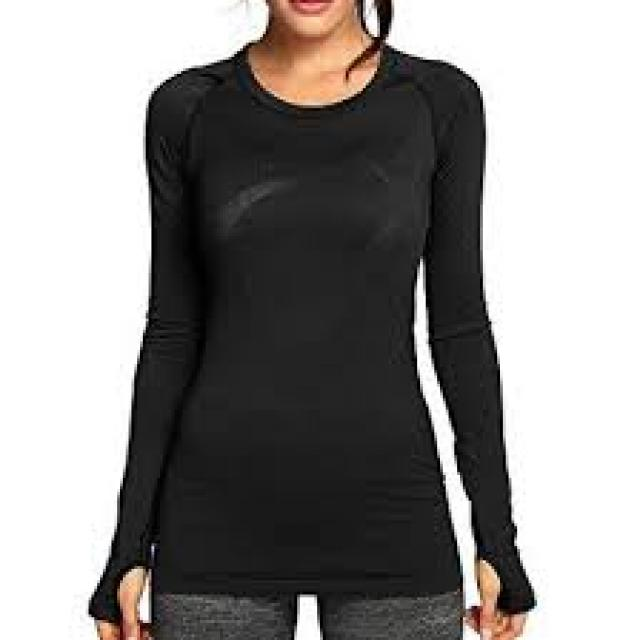plain: (121, 51, 498, 588)
